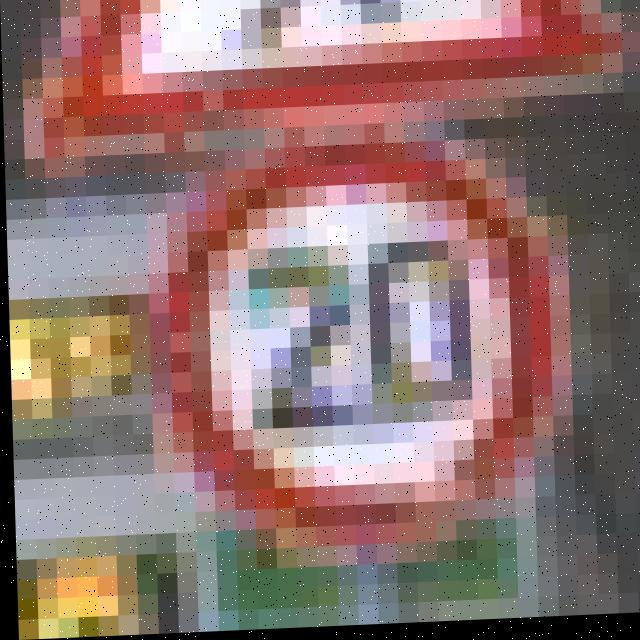speed_limit_20: (155, 140, 574, 549)
